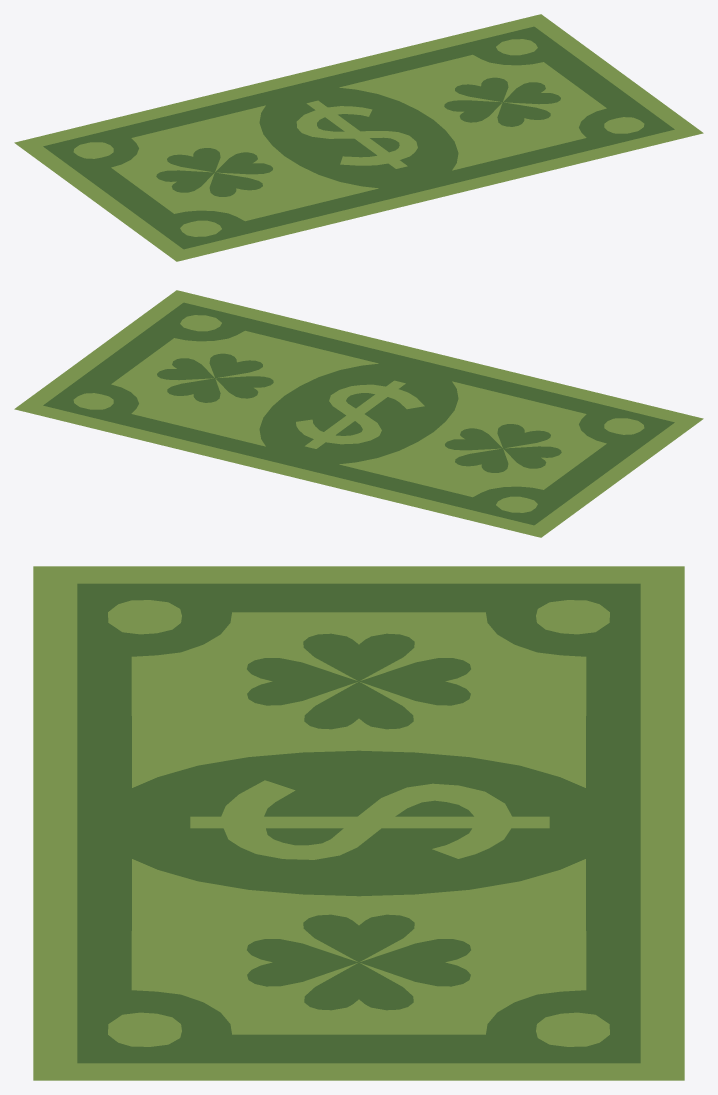
File: PaperMoney_01.fbx
The picture shows the model from 3 angles, top to bottom: view 1: azimuth 30°, elevation 25°; view 2: azimuth 150°, elevation 25°; view 3: azimuth 270°, elevation 25°; orthographic projection. The views are drawn at different scales.
Parts seen in each view (by area): view 1: PaperMoney_01; view 2: PaperMoney_01; view 3: PaperMoney_01.
Part boxes in pixels (<box>): PaperMoney_01: <box>14,14,703,261</box>; PaperMoney_01: <box>14,290,703,537</box>; PaperMoney_01: <box>33,566,684,1080</box>.
Bounding box in the file's own units: 0.208 × 0.00066 × 0.1112.
